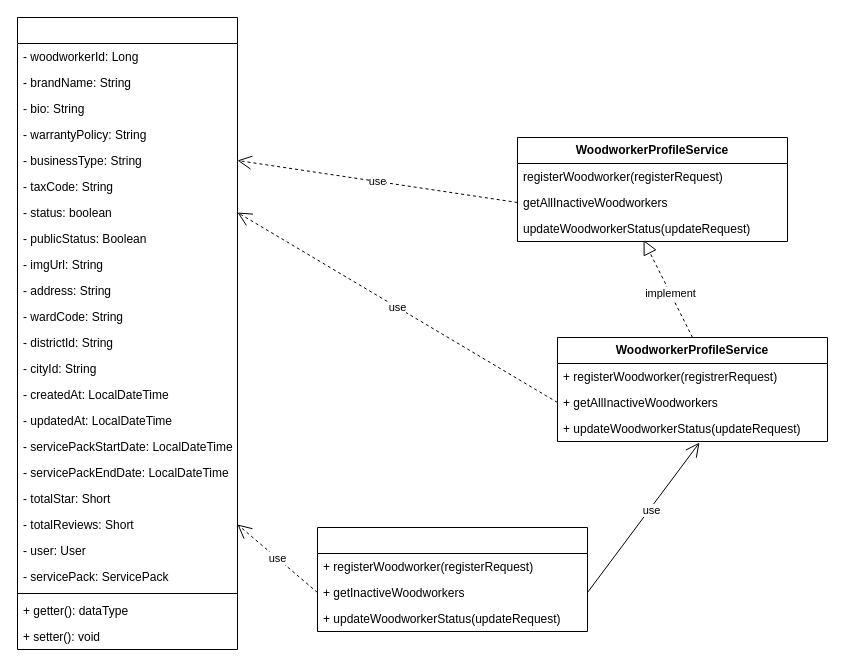
This 845x670 diagram has some shape labels left out. Here are the shapes that lost their labels. From the top down, the box of each, then its label:
(16, 16, 238, 650): WoodworkerProfile
(316, 526, 588, 632): WoodworkerProfileController
